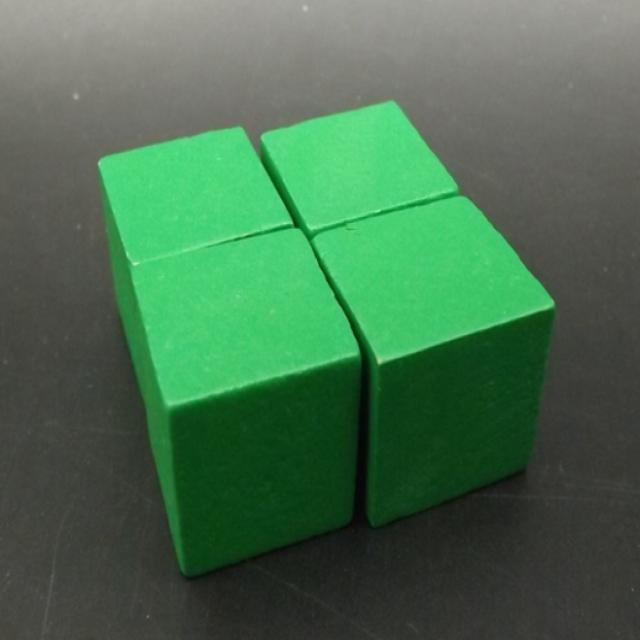green cube: (308, 193, 555, 531), (130, 226, 360, 578), (96, 125, 295, 366), (260, 97, 462, 238)
